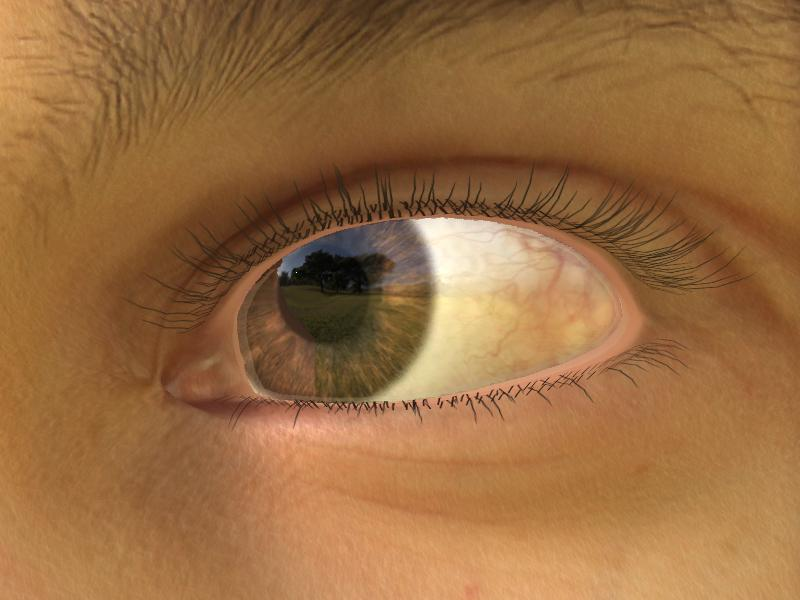eye: (229, 219, 437, 393)
